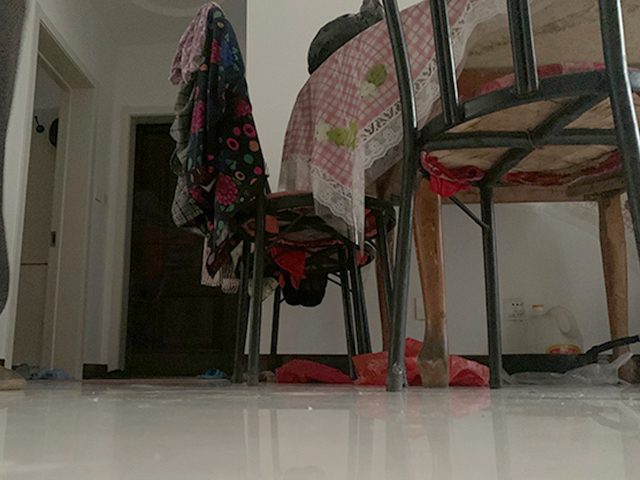slippers: (29, 367, 71, 380), (196, 367, 228, 379)
stool: (381, 1, 640, 389), (171, 1, 398, 384)
table: (278, 1, 640, 389)
